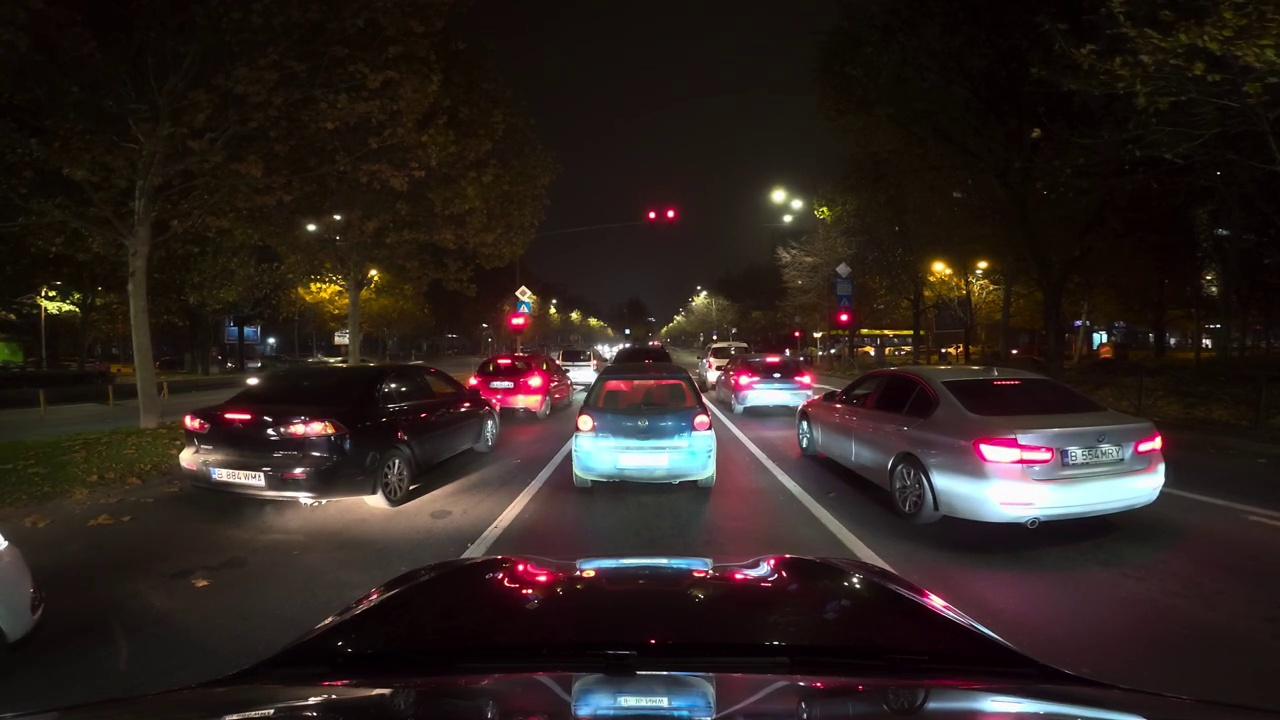acesa: (767, 184, 796, 213), (928, 259, 954, 283)
